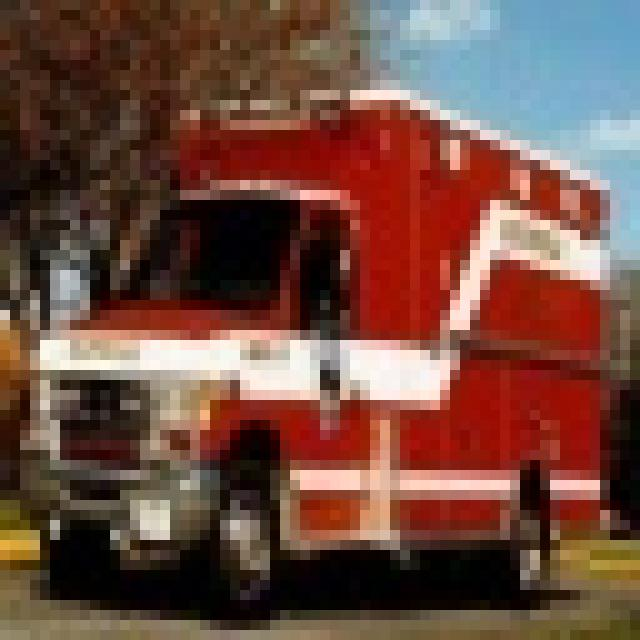Ambulance: (10, 80, 610, 610)
